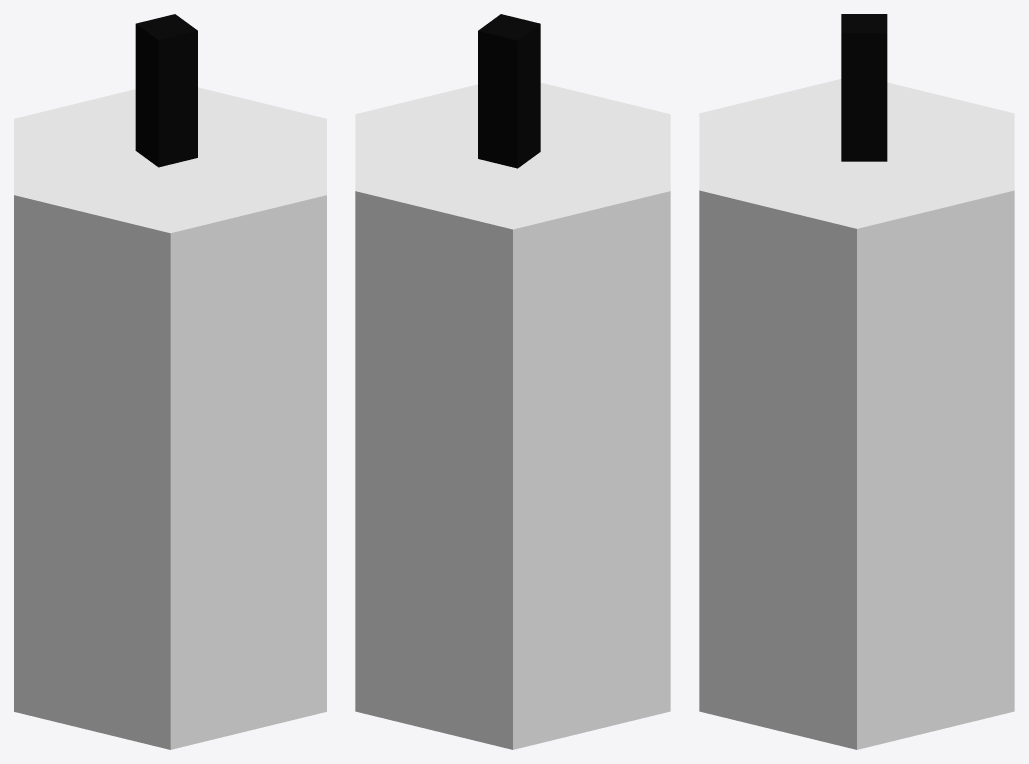
The model's file is kynttila3_white.FBX.
3 renders of one model, left to right at view 1: azimuth 30°, elevation 25°; view 2: azimuth 150°, elevation 25°; view 3: azimuth 270°, elevation 25°, orthographic.
Visible parts, largest first — view 1: Kynttila3_white; view 2: Kynttila3_white; view 3: Kynttila3_white.
Boxes of the visible parts, x1,y1,x2,y2 form: Kynttila3_white: (14, 14, 326, 749); Kynttila3_white: (355, 14, 670, 749); Kynttila3_white: (699, 14, 1014, 749).
Bounding box in the file's own units: 19.01 × 37.38 × 16.46.
